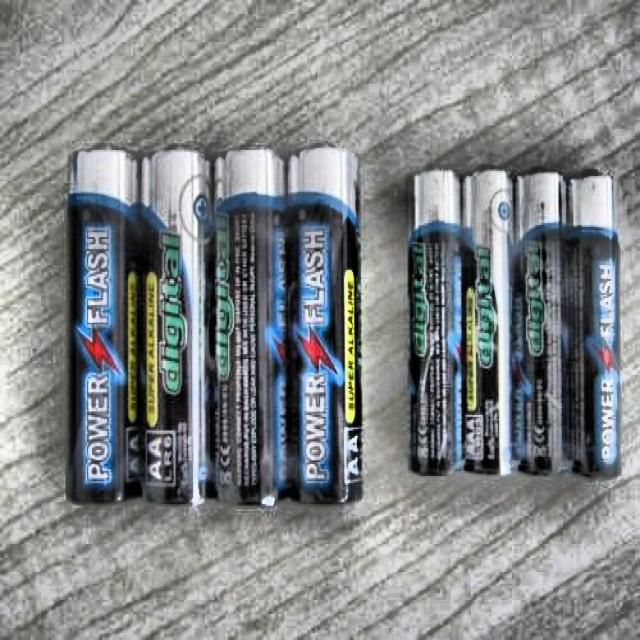Non-Valuable Waste - Batteries: (288, 148, 362, 502), (214, 150, 286, 505), (68, 152, 140, 502), (141, 150, 211, 503), (512, 170, 566, 474), (409, 169, 462, 475), (568, 175, 620, 475), (462, 169, 512, 473)
